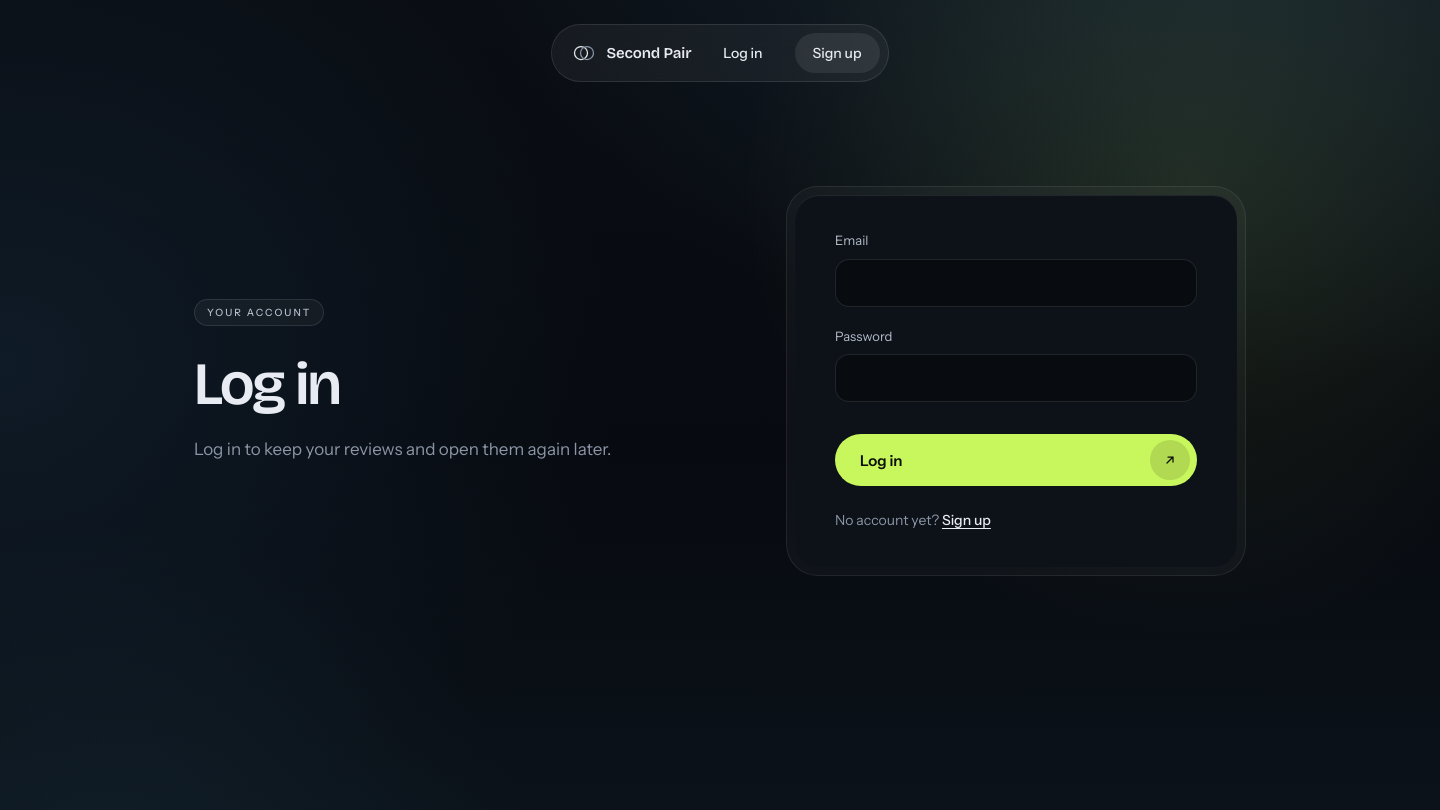
Test case: AuthPage › shows a refused login above the form
Type "ana@example.com" into the field labelled "Email" at (1016, 282), box x1=835 y1=258 x2=1197 y2=306
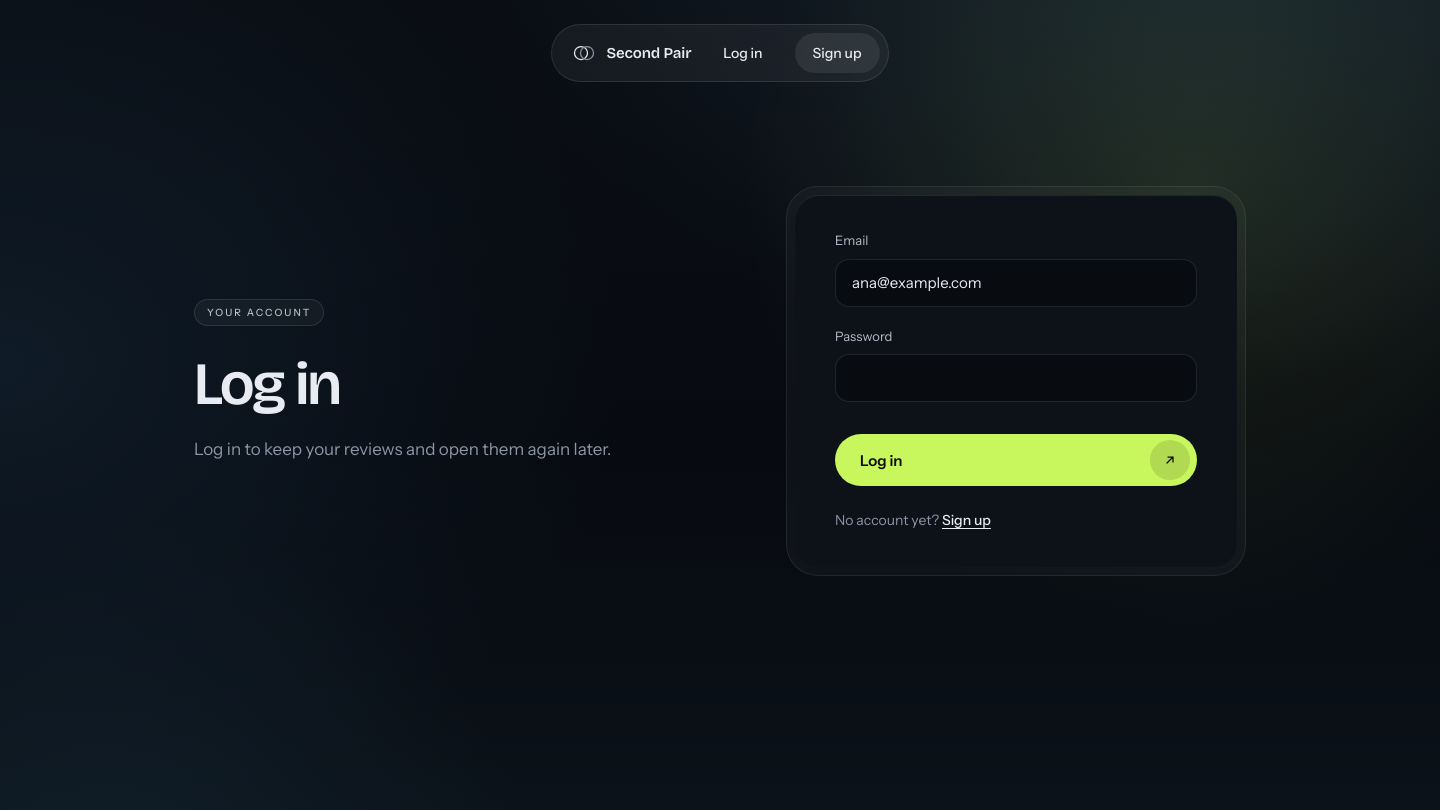
Type "wrong-password" into the password field labelled "Password" at (1016, 378), box x1=835 y1=354 x2=1197 y2=402
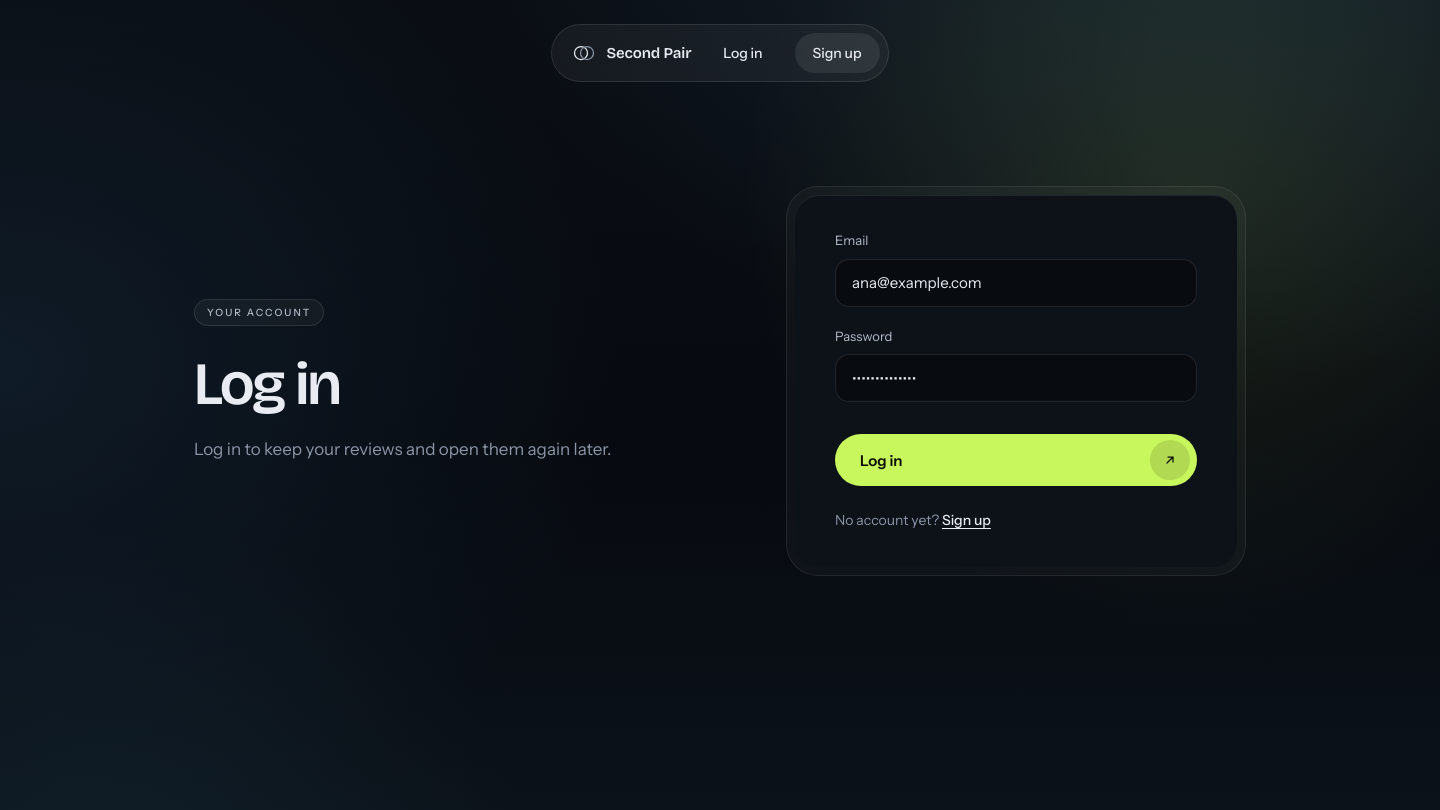
Click the button "Log in" at (881, 460), box x1=835 y1=434 x2=1197 y2=486
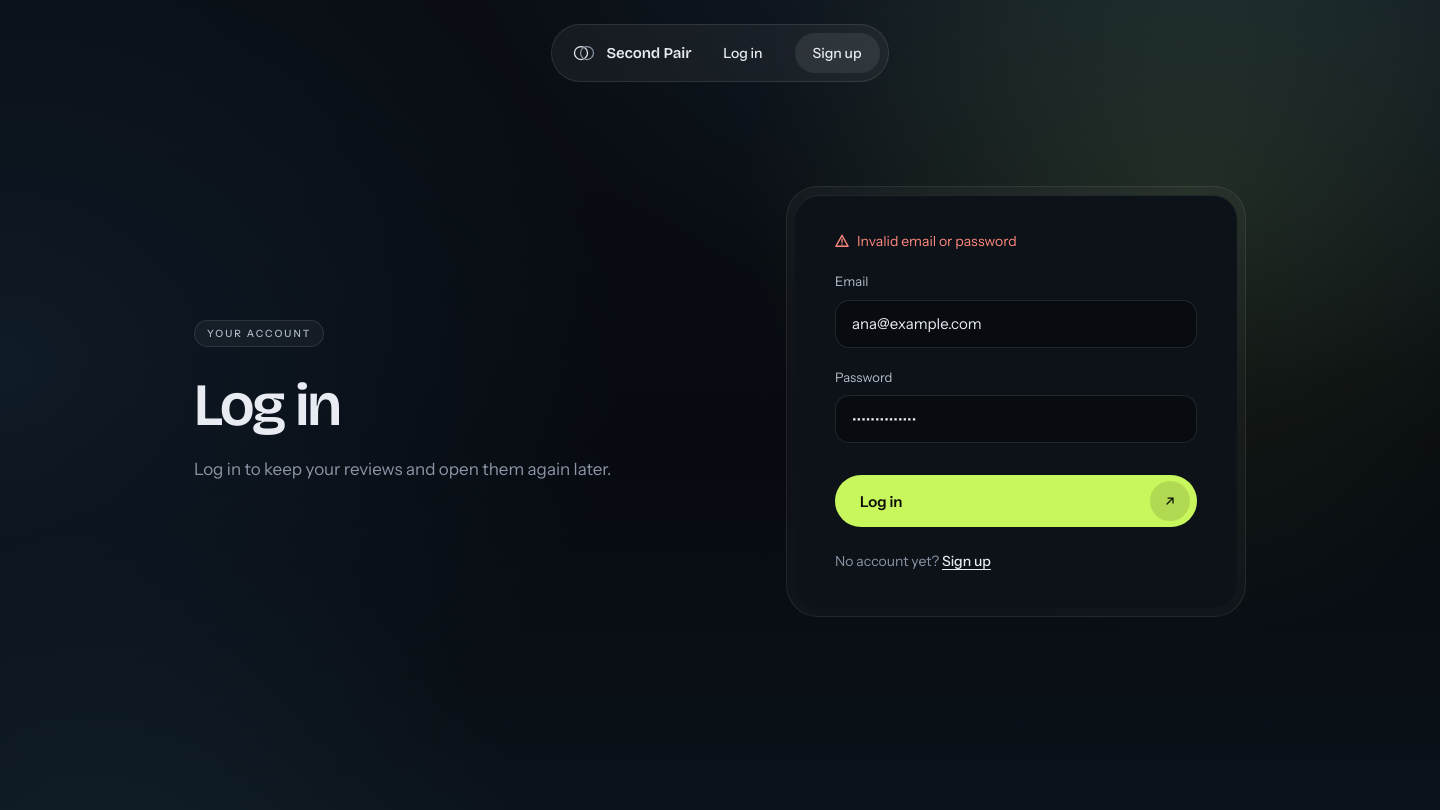
Expected: the message reads "Invalid email or password", x1=857 y1=232 x2=1017 y2=250
